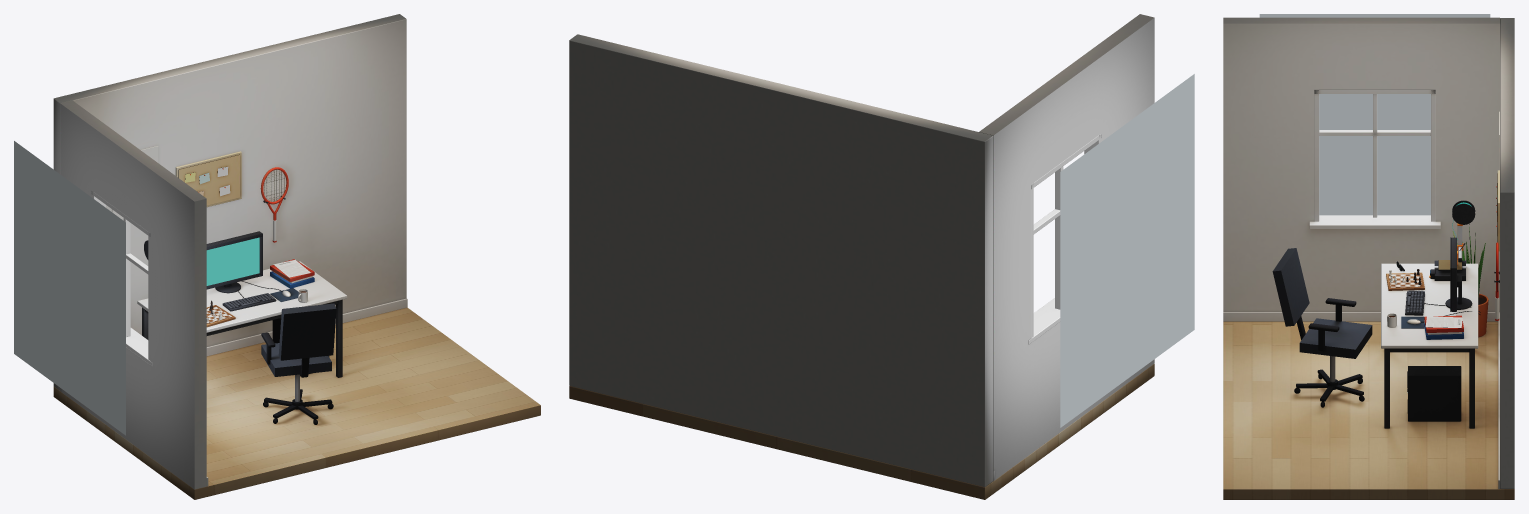
The model's file is desk.glb.
The picture shows the model from 3 angles, left to right: view 1: azimuth 30°, elevation 25°; view 2: azimuth 150°, elevation 25°; view 3: azimuth 270°, elevation 25°; orthographic projection. The views are drawn at different scales.
Parts seen in each view (by area): view 1: wall_back, floor, wall_left, sky, chair, desk, screen, cork, base_back, computer_monitor, askaapm_binder, kinetiq_racket; view 2: wall_back, sky, wall_left, floor, mullion, sill; view 3: wall_left, floor, sky, wall_back, desk, chair, computer_tower, sill, base_left, shield_printer, askaapm_binder, computer_monitor (+9 smaller).
Boxes of the visible parts, x1,y1,x2,y2 form: wall_back: (53, 14, 406, 390); floor: (53, 307, 540, 499); wall_left: (60, 100, 206, 489); sky: (14, 141, 125, 435); chair: (261, 303, 336, 424); desk: (137, 261, 347, 377); screen: (206, 237, 259, 285); cork: (178, 154, 239, 205); base_back: (60, 298, 407, 391); computer_monitor: (206, 231, 262, 293); askaapm_binder: (270, 259, 314, 288); kinetiq_racket: (260, 167, 288, 242); wall_back: (569, 34, 993, 486); sky: (1060, 74, 1194, 427); wall_left: (979, 14, 1154, 480); floor: (569, 364, 1154, 499); mullion: (1055, 166, 1063, 309); sill: (1028, 298, 1060, 344); wall_left: (1223, 17, 1499, 312); floor: (1223, 321, 1514, 499); sky: (1259, 14, 1490, 215); wall_back: (1500, 18, 1514, 488); desk: (1381, 263, 1478, 428); chair: (1272, 248, 1372, 407); computer_tower: (1407, 366, 1461, 421); sill: (1309, 215, 1440, 228); base_left: (1223, 312, 1498, 321); shield_printer: (1429, 200, 1475, 280); askaapm_binder: (1424, 315, 1463, 339); computer_monitor: (1445, 237, 1472, 311).
Size of the model in its own units: 3.9 by 2.8 by 2.4.
6 materials, 4 textured.
